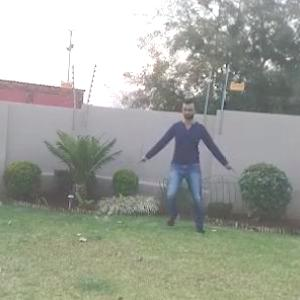land: (139, 103, 237, 233)
